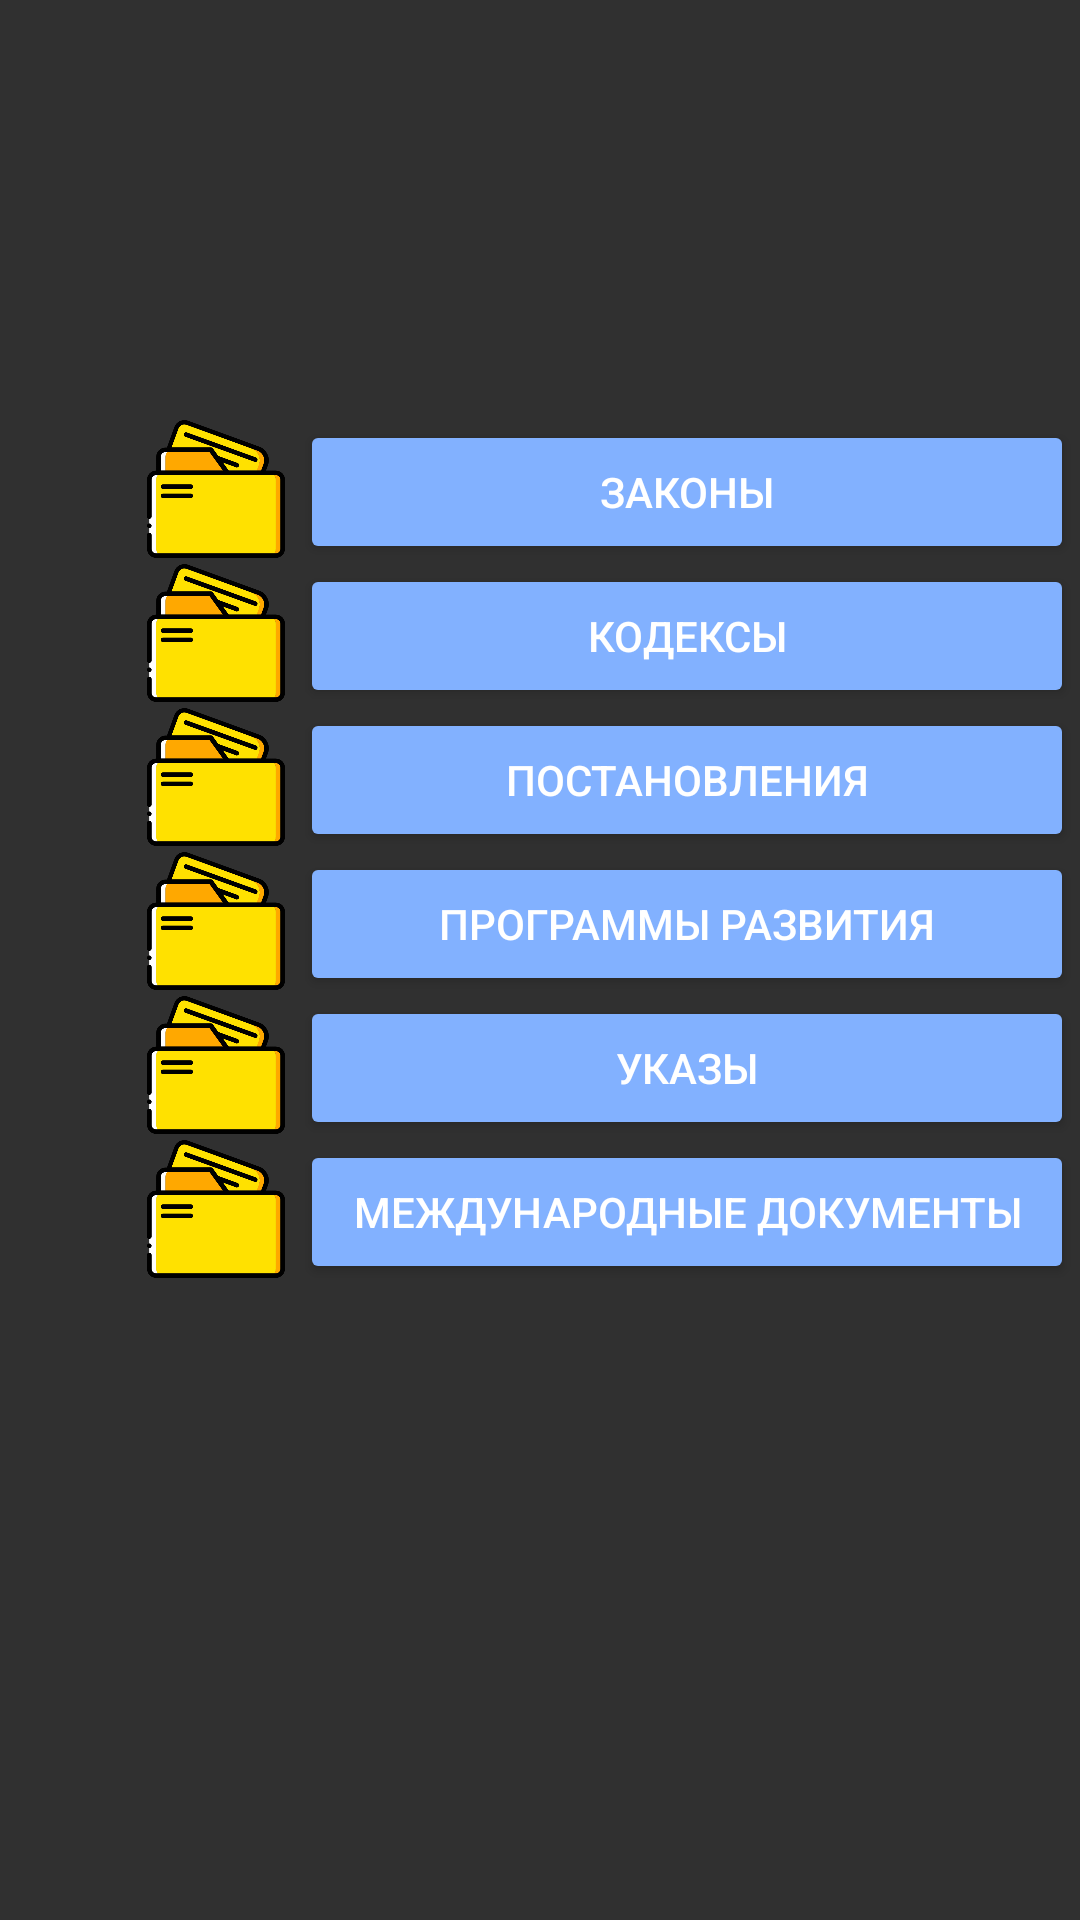

Named icons in this screenshot (1080 x 1920) and their centers, (x,y):
files: (216,489), (216,633), (216,777), (216,921), (216,1065), (216,1209)
